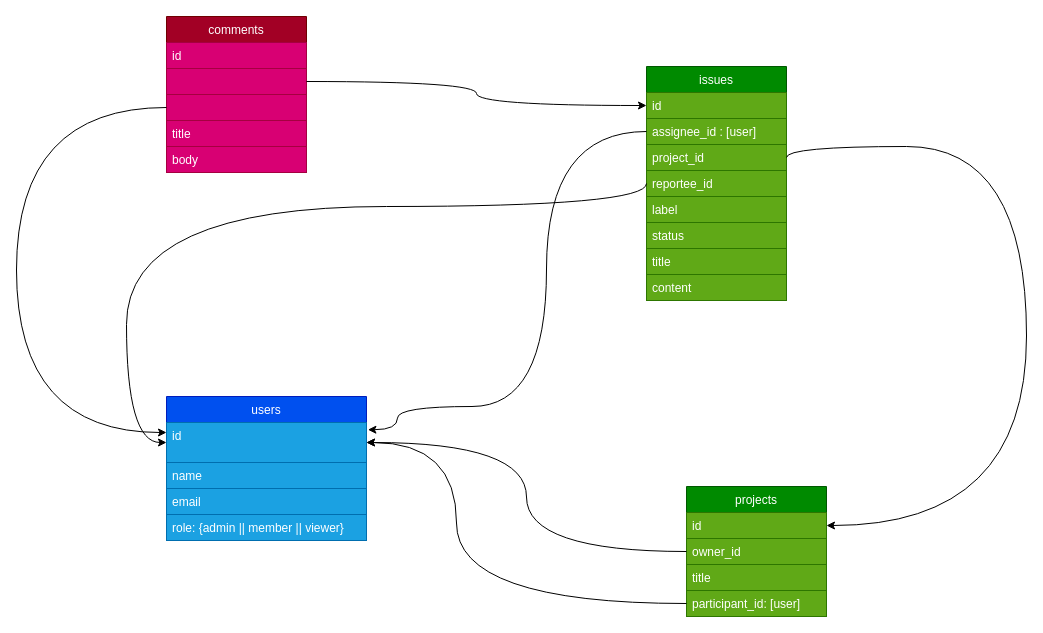
Some shapes in this 1043 by 633 pixel diagram are drawn without their labels. Here are the shapes that lost their labels. From the top down, the centre of each, then its label:
At pixel 236 81: "issue_id".
At pixel 236 107: "commenter_id".
